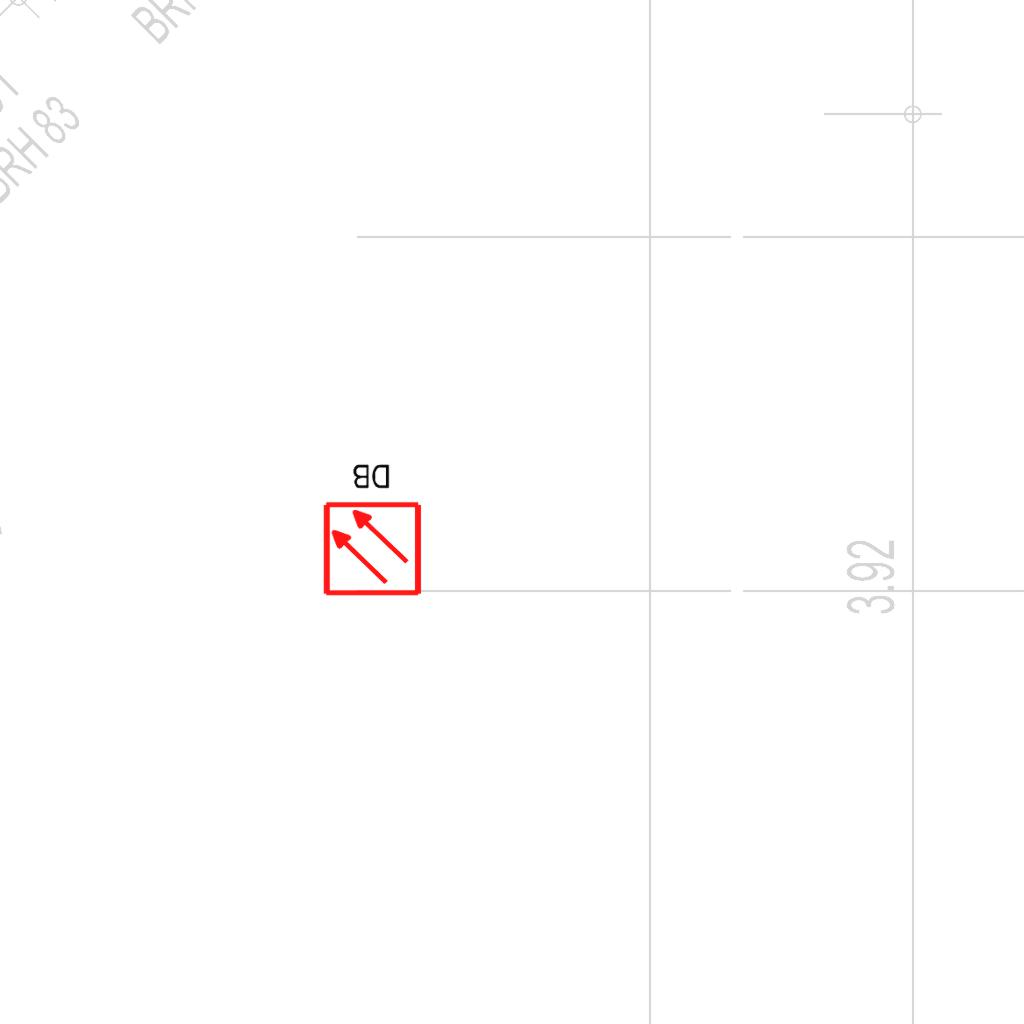DB_Melder_in_Doppelboden_mit_Revisionsoeffnung_mind_40_x_40_cm: (314, 454, 428, 603)
